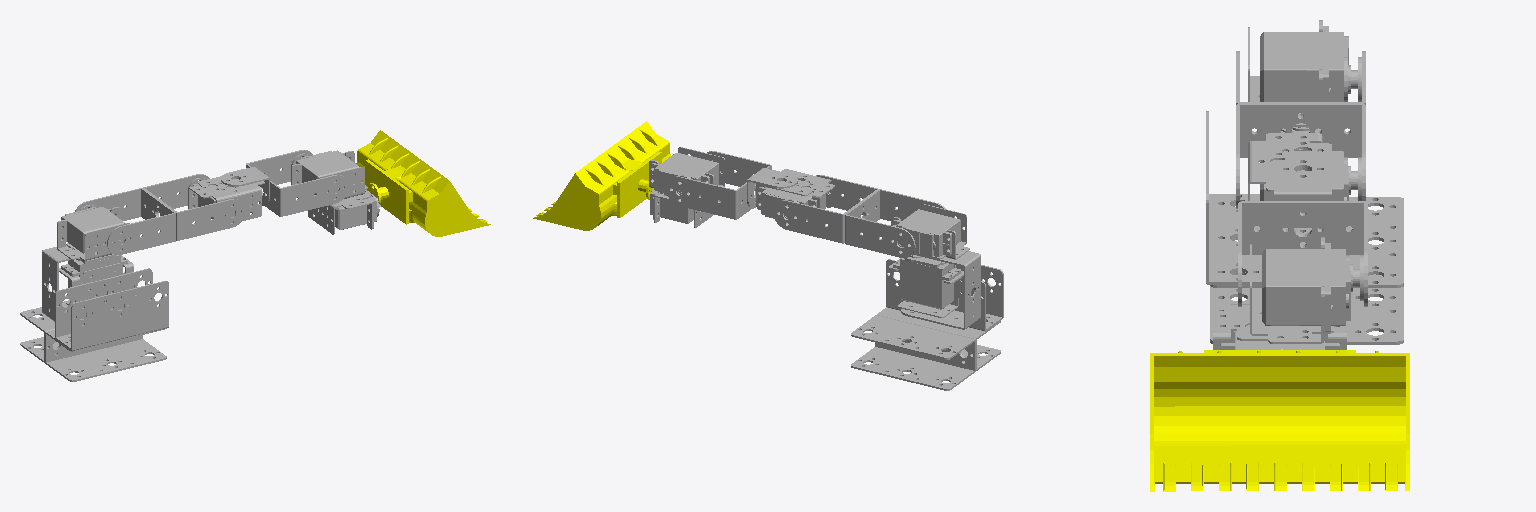
URDF robot description (aligned_arm):
<?xml version="1.0"?>
<!-- This URDF was automatically created by SolidWorks to URDF Exporter! Originally created by [author] ([email redacted]) 
     Commit Version: 1.6.0-4-g7f85cfe  Build Version: 1.6.7995.38578
     For more information, please see http://wiki.ros.org/sw_urdf_exporter -->
<robot
  name="aligned_arm"
  xmlns:xacro="http://ros.org/wiki/xacro">
  <link name="world"/>

  <link name="base_link">
    <inertial>
      <origin
        xyz="-0.00944732691721334 -0.00485491048454716 0.0434935093034806"
        rpy="0 0 0" />
      <mass
        value="0.0724481766269399" />
      <inertia
        ixx="0.001"
        ixy="0"
        ixz="0"
        iyy="0.001"
        iyz="0"
        izz="0.001"/>

    </inertial>
    <visual>
      <origin
        xyz="0 0 0"
        rpy="0 0 0" />
      <geometry>
        <mesh
          filename="package://aligned_arm/meshes/base_link.STL" />
      </geometry>
      <material
        name="">
        <color
          rgba="0.752941176470588 0.752941176470588 0.752941176470588 1" />
      </material>
    </visual>
    <collision>
      <origin
        xyz="0 0 0"
        rpy="0 0 0" />
      <geometry>
        <mesh
          filename="package://aligned_arm/meshes/base_link.STL" />
      </geometry>
    </collision>
  </link>
  
  <link name="shoulder">
    <inertial>
      <origin
        xyz="-0.0138375246543273 -0.000136423090262103 0.0642577277432398"
        rpy="0 0 0" />
      <mass
        value="0.0383299135323012" />
      <inertia
        ixx="0.001"
        ixy="0"
        ixz="0"
        iyy="0.001"
        iyz="0"
        izz="0.001"/>
    </inertial>
    <visual>
      <origin
        xyz="0 0 0"
        rpy="0 0 0" />
      <geometry>
        <mesh
          filename="package://aligned_arm/meshes/shoulder.STL" />
      </geometry>
      <material
        name="">
        <color
          rgba="0.752941176470588 0.752941176470588 0.752941176470588 1" />
      </material>
    </visual>
    <collision>
      <origin
        xyz="0 0 0"
        rpy="0 0 0" />
      <geometry>
        <mesh
          filename="package://aligned_arm/meshes/shoulder.STL" />
      </geometry>
    </collision>
  </link>
  
  <link name="elbow">
    <inertial>
      <origin
        xyz="0.0515 0 0.00141467083630039"
        rpy="0 0 0" />
      <mass
        value="0.013540978703673" />
      <inertia
        ixx="0.001"
        ixy="0"
        ixz="0"
        iyy="0.001"
        iyz="0"
        izz="0.001"/>
    </inertial>
    <visual>
      <origin
        xyz="0 0 0"
        rpy="0 0 0" />
      <geometry>
        <mesh
          filename="package://aligned_arm/meshes/elbow.STL" />
      </geometry>
      <material
        name="">
        <color
          rgba="0.752941176470588 0.752941176470588 0.752941176470588 1" />
      </material>
    </visual>
    <collision>
      <origin
        xyz="0 0 0"
        rpy="0 0 0" />
      <geometry>
        <mesh
          filename="package://aligned_arm/meshes/elbow.STL" />
      </geometry>
    </collision>
  </link>
  
  <link name="wrist">
    <inertial>
      <origin
        xyz="0.0206267882659475 -0.000711621284712166 0.000259074135945421"
        rpy="0 0 0" />
      <mass
        value="0.0403064898175783" />
      <inertia
        ixx="0.001"
        ixy="0"
        ixz="0"
        iyy="0.001"
        iyz="0"
        izz="0.001"/>
    </inertial>
    <visual>
      <origin
        xyz="0 0 0"
        rpy="0 0 0" />
      <geometry>
        <mesh
          filename="package://aligned_arm/meshes/wrist.STL" />
      </geometry>
      <material
        name="">
        <color
          rgba="0.752941176470588 0.752941176470588 0.752941176470588 1" />
      </material>
    </visual>
    <collision>
      <origin
        xyz="0 0 0"
        rpy="0 0 0" />
      <geometry>
        <mesh
          filename="package://aligned_arm/meshes/wrist.STL" />
      </geometry>
    </collision>
  </link>
  
  <link name="wrist2">
    <inertial>
      <origin
        xyz="0.0134999999994358 -0.0148568442704152 -0.00474215572827058"
        rpy="0 0 0" />
      <mass
        value="0.0631188483632319" />
      <inertia
        ixx="0.001"
        ixy="0"
        ixz="0"
        iyy="0.001"
        iyz="0"
        izz="0.001"/>
    </inertial>
    <visual>
      <origin
        xyz="0 0 0"
        rpy="0 0 0" />
      <geometry>
        <mesh
          filename="package://aligned_arm/meshes/wrist2.STL" />
      </geometry>
      <material
        name="">
        <color
          rgba="0.752941176470588 0.752941176470588 0.752941176470588 1" />
      </material>
    </visual>
    <collision>
      <origin
        xyz="0 0 0"
        rpy="0 0 0" />
      <geometry>
        <mesh
          filename="package://aligned_arm/meshes/wrist2.STL" />
      </geometry>
    </collision>
  </link>

  <!-- DIGGER -->
<link
    name="scoop">
    <inertial>
      <origin
        xyz="5.6402E-06 -0.0031065 -0.029004"
        rpy="0 0 0" />
      <mass
        value="0.033026" />
      <inertia
        ixx="1.5195E-05"
        ixy="1.1473E-10"
        ixz="7.1239E-11"
        iyy="4.2855E-05"
        iyz="-3.2482E-06"
        izz="3.9837E-05" />
    </inertial>
    <visual>
      <origin
        xyz="0 0 0"
        rpy="0 0 0" />
      <geometry>
        <mesh
          filename="package://aligned_arm/meshes/scoop.STL" />
      </geometry>
      <material
        name="">
        <color
          rgba="1 1 0 1" />
      </material>
    </visual>
    <collision>
      <origin
        xyz="0 0 0"
        rpy="0 0 0" />
      <geometry>
        <mesh
          filename="package://aligned_arm/meshes/scoop.STL" />
      </geometry>
    </collision>
  </link>

  <link name="wrist_camera_link"/>

  <joint name="wrist_camera_joint" type="fixed">
    <parent link="scoop"/>
    <child link="wrist_camera_link"/>
    <origin xyz="0 0 -0.02" rpy="0 0 0"/>
  </joint>

  <gazebo reference="wrist_camera_link">
    <sensor type="camera" name="wrist_camera">
      <always_on>true</always_on>
      <update_rate>30</update_rate>

      <camera>
        <horizontal_fov>1.047</horizontal_fov>
        <image>
          <width>640</width>
          <height>480</height>
          <format>R8G8B8</format>
        </image>
        <clip>
          <near>0.01</near>
          <far>10.0</far>
        </clip>
      </camera>

      <plugin name="gazebo_ros_camera" filename="libgazebo_ros_camera.so">
        <camera_name>wrist_camera</camera_name>
        <frame_name>wrist_camera_link</frame_name>
        <image_topic_name>image_raw</image_topic_name>
        <camera_info_topic_name>camera_info</camera_info_topic_name>
      </plugin>
    </sensor>
  </gazebo>

  <!-- JOINTS -->
  <joint name="world_joint" type="fixed">
    <parent link="world"/>
    <child link="base_link"/>
  </joint>

  <joint name="bas_jnt"
    type="continuous">
    <origin
      xyz="0 0 0.037367"
      rpy="0 0 0" />
    <parent
      link="base_link" />
    <child
      link="shoulder" />
    <axis
      xyz="0 0 -1" />
    <dynamics damping="2.0" friction="0.1"/>

  </joint>
  <joint name="shl_jnt"
    type="continuous">
    <origin
      xyz="-0.001501 0 0.071733"
      rpy="-1.5708 0 0" />
    <parent
      link="shoulder" />
    <child
      link="elbow" />
    <axis
      xyz="0 0 -1" />
    <dynamics damping="2.0" friction="0.1"/>
    
  </joint>

  <joint name="elb_jnt"
    type="continuous">
    <origin
      xyz="0.103 0 0"
      rpy="0 0 0" />
    <parent
      link="elbow" />
    <child
      link="wrist" />
    <axis
      xyz="0 0 -1" />
    <dynamics damping="2.0" friction="0.1"/>

   </joint>
   <joint
    name="wri_jnt"
    type="continuous">
    <origin
      xyz="0.096499 0.0015 0"
      rpy="0 0 1.5708" />
    <parent
      link="wrist" />
    <child
      link="wrist2" />
    <axis
      xyz="0 0 -1" />
    <dynamics damping="2.0" friction="0.1"/>
  </joint>
  
  <!-- GRIPPER JOINT  -->
  
    <joint
    name="end_joint"
    type="revolute">

    <!-- Change gripper position and orientation by manipulating these numbers -->
    <origin
      xyz="0.023 -0.045 -0.01"
      rpy="3.14 1.57 0" />

    <parent
      link="wrist2" />
    <child
      link="scoop" />
    <axis
      xyz="0 -1 0" />
    <limit
      lower="-1.57"
      upper="1.57"
      effort="1"
      velocity="1" />
    <dynamics damping="2.0" friction="0.1"/>
  </joint>
</robot>

--- Render facts (derived) ---
3 views of the same robot in one strip: view 1: azimuth 30°, elevation 25°; view 2: azimuth 150°, elevation 25°; view 3: azimuth 270°, elevation 25° (orthographic).
Robot: aligned_arm — 8 links, 7 joints (1 revolute, 4 continuous, 2 fixed); root link world; default pose: all joints at 0.
Links seen in each view (by area): view 1: base_link, scoop, elbow, wrist, wrist2, shoulder; view 2: base_link, scoop, elbow, wrist, shoulder, wrist2; view 3: scoop, wrist, wrist2, base_link, shoulder, elbow.
Link boxes in pixels (left/top/right/bottom): base_link: left=20, top=254, right=168, bottom=381; scoop: left=356, top=130, right=490, bottom=236; elbow: left=75, top=174, right=245, bottom=254; wrist: left=188, top=150, right=348, bottom=222; wrist2: left=291, top=150, right=380, bottom=234; shoulder: left=42, top=207, right=129, bottom=321; base_link: left=851, top=255, right=1003, bottom=390; scoop: left=533, top=121, right=670, bottom=230; elbow: left=773, top=175, right=945, bottom=257; wrist: left=666, top=151, right=834, bottom=221; shoulder: left=891, top=204, right=980, bottom=329; wrist2: left=649, top=147, right=724, bottom=227; scoop: left=1150, top=349, right=1409, bottom=491; wrist: left=1238, top=133, right=1367, bottom=306; wrist2: left=1213, top=237, right=1352, bottom=349; base_link: left=1206, top=111, right=1403, bottom=344; shoulder: left=1248, top=20, right=1350, bottom=233; elbow: left=1236, top=51, right=1365, bottom=208.
Size in the robot's own frame: 0.3755 by 0.112 by 0.1241 metres.
Meshes: 6 distinct files referenced, 6 mesh visuals loaded (6 binary STL).
